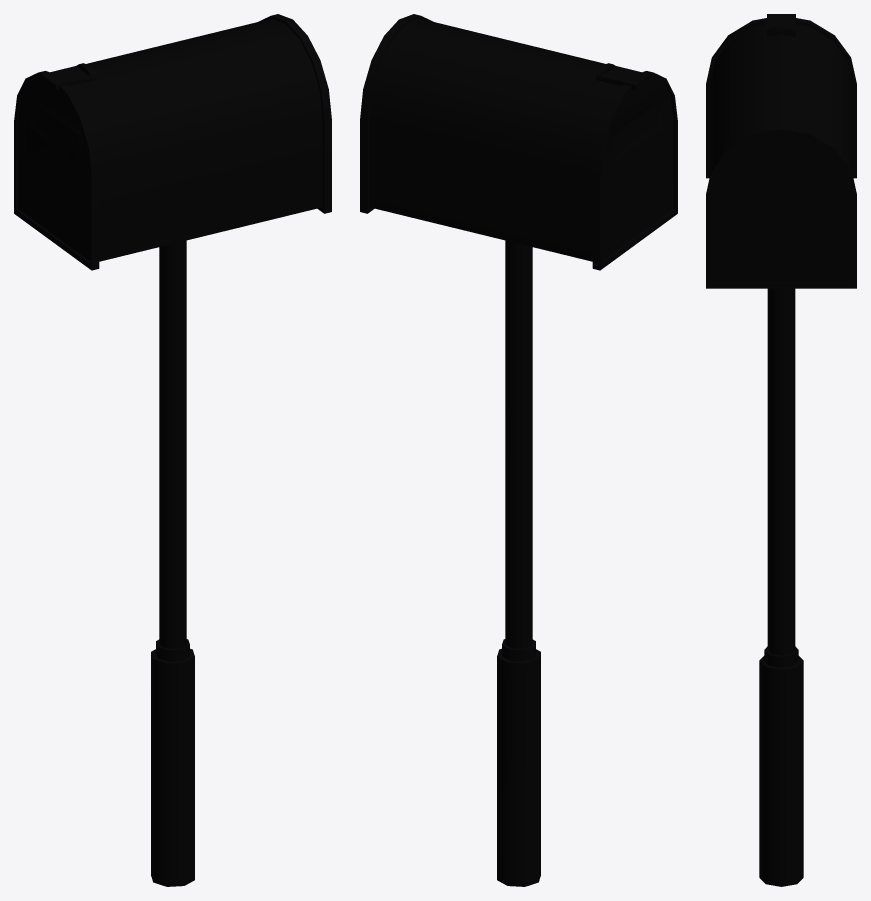
3 views of the same model, side by side, from view 1: azimuth 30°, elevation 25°; view 2: azimuth 150°, elevation 25°; view 3: azimuth 270°, elevation 25° (orthographic). The views are drawn at different scales.
Visible parts, largest first — view 1: Joint_0_Object_1, Joint_0_Object_0; view 2: Joint_0_Object_1, Joint_0_Object_0; view 3: Joint_0_Object_1, Joint_0_Object_0.
Boxes of the visible parts, x1,y1,x2,y2 form: Joint_0_Object_1: (14, 14, 331, 270); Joint_0_Object_0: (151, 240, 194, 886); Joint_0_Object_1: (360, 14, 677, 270); Joint_0_Object_0: (497, 240, 540, 886); Joint_0_Object_1: (706, 14, 856, 288); Joint_0_Object_0: (759, 288, 803, 886).
Size of the model in its own units: 572 by 1865 by 315.
2 materials, 2 textured.
